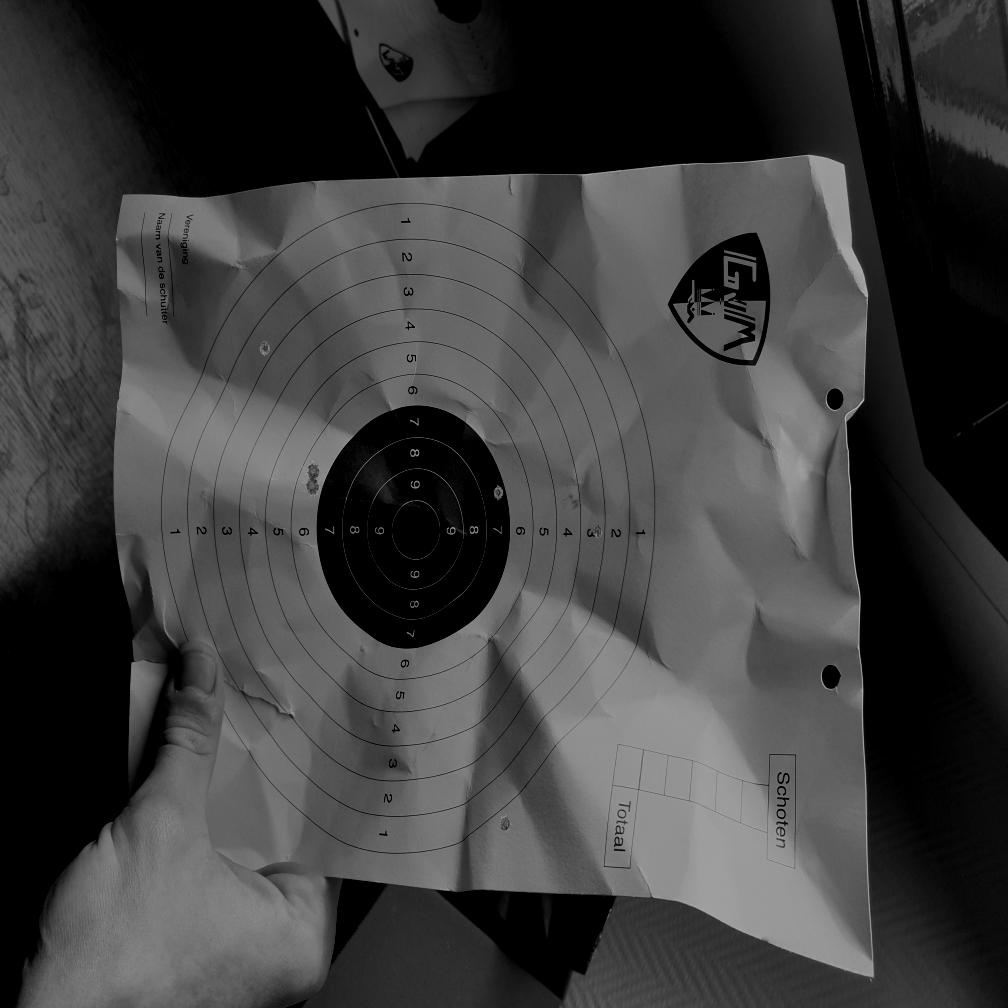0: (499, 814, 513, 832)
2: (258, 341, 271, 356)
3: (592, 524, 604, 540)
6: (302, 479, 322, 497), (302, 462, 323, 479)
7: (493, 484, 504, 501)
Target: (160, 201, 656, 864)
black_contour: (316, 405, 510, 649)
